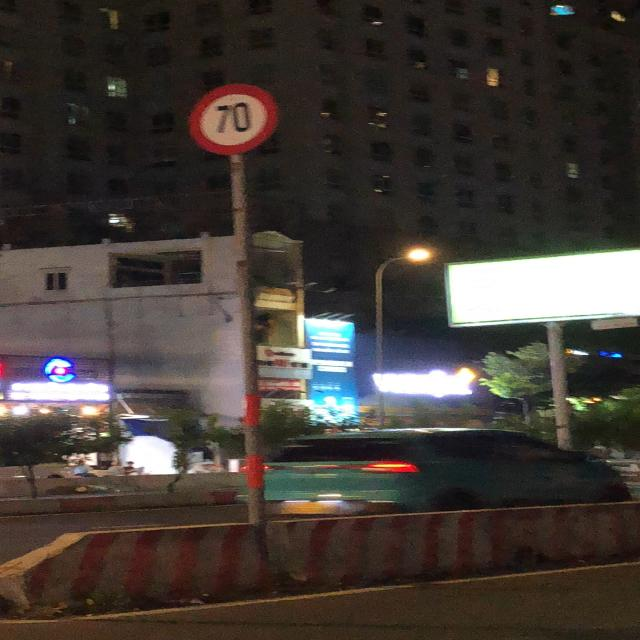Bien bao toc do toi da cho phep: (180, 80, 292, 152)
